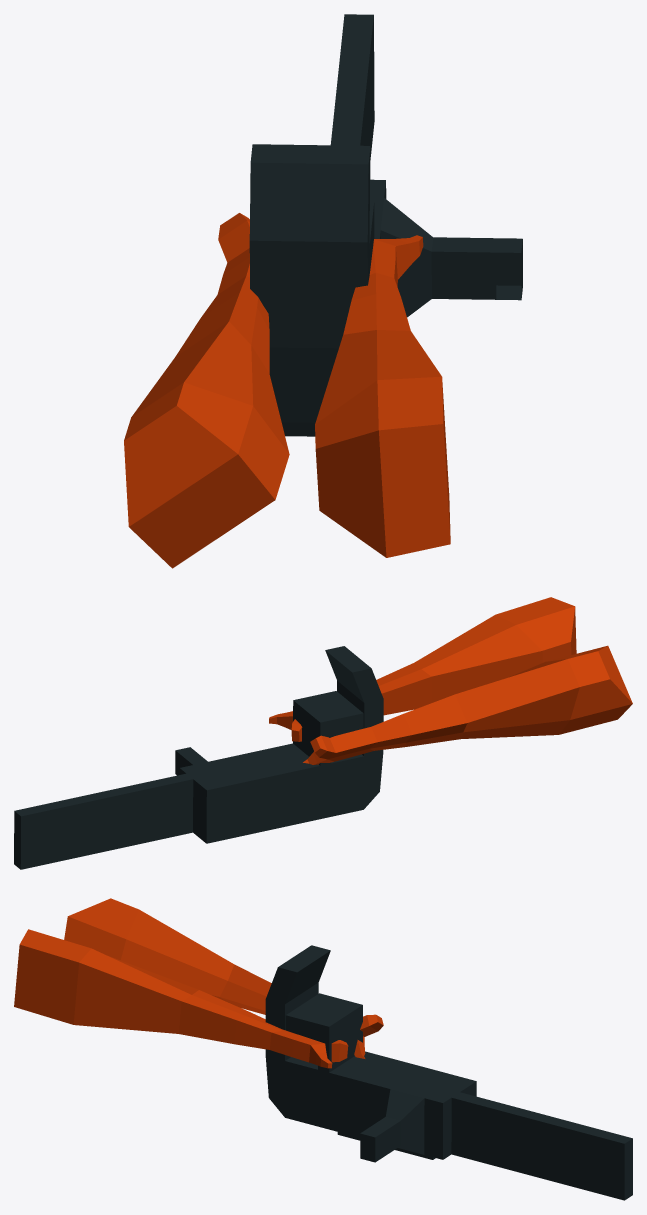
Rendered from arme_000024.obj.
3 renders of one model, top to bottom at view 1: azimuth 30°, elevation 25°; view 2: azimuth 150°, elevation 25°; view 3: azimuth 270°, elevation 25°, orthographic. The views are drawn at different scales.
Parts seen in each view (by area): view 1: Cube.046_Cube.010, Cube.048_Cube.024, Cube.047_Cube.022; view 2: Cube.046_Cube.010, Cube.048_Cube.024, Cube.047_Cube.022; view 3: Cube.046_Cube.010, Cube.047_Cube.022, Cube.048_Cube.024.
Boxes of the visible parts, x1,y1,x2,y2 form: Cube.046_Cube.010: (249, 14, 522, 436); Cube.048_Cube.024: (124, 213, 289, 568); Cube.047_Cube.022: (315, 235, 450, 557); Cube.046_Cube.010: (14, 646, 383, 869); Cube.048_Cube.024: (303, 645, 632, 764); Cube.047_Cube.022: (269, 597, 576, 741); Cube.046_Cube.010: (265, 945, 632, 1200); Cube.047_Cube.022: (14, 929, 348, 1068); Cube.048_Cube.024: (64, 898, 383, 1058).
Bounding box in the file's own units: 1599 × 618 × 2183.
